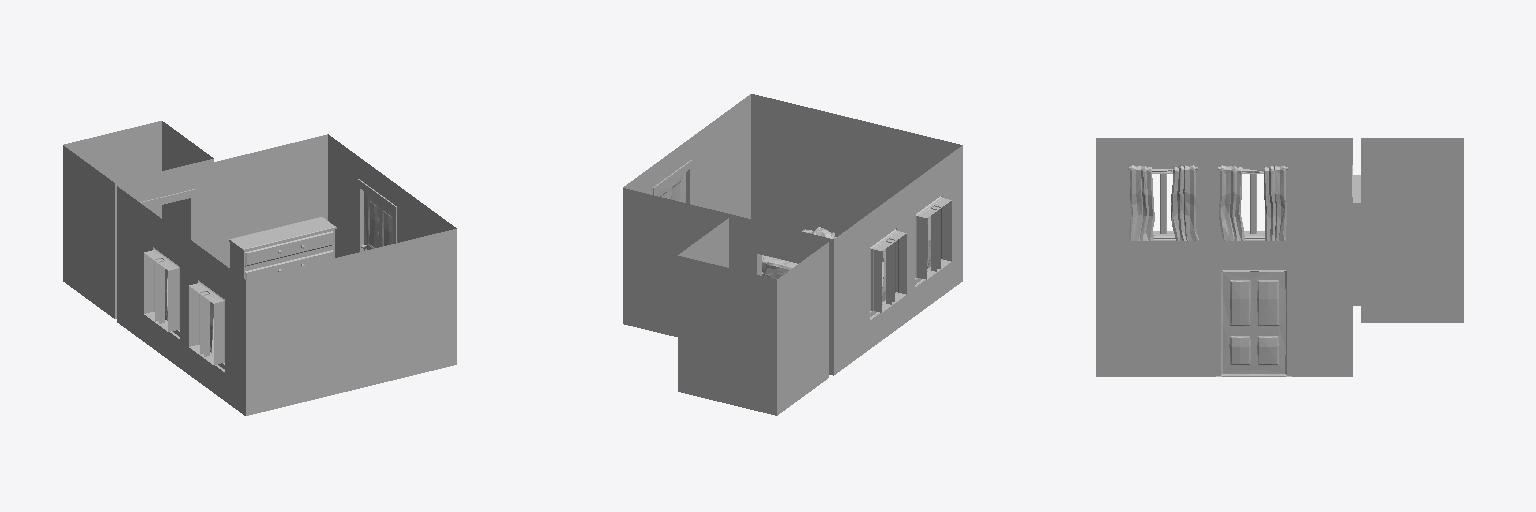
The model's file is door.obj.
3 views of the same model, side by side, from view 1: azimuth 30°, elevation 25°; view 2: azimuth 150°, elevation 25°; view 3: azimuth 270°, elevation 25° (orthographic).
Parts seen in each view (by area): view 1: Plane, Cube_Cube.005, Plane.002; view 2: Plane; view 3: Plane, Plane.002, Cylinder.003_Cylinder.000, Cylinder.004_Cylinder.001.
Part boxes in pixels (bbox=[...]): Plane: bbox=[63, 121, 456, 415]; Cube_Cube.005: bbox=[229, 217, 336, 279]; Plane.002: bbox=[364, 191, 392, 250]; Plane: bbox=[623, 94, 962, 415]; Plane: bbox=[1096, 138, 1463, 376]; Plane.002: bbox=[1221, 271, 1286, 375]; Cylinder.003_Cylinder.000: bbox=[1128, 165, 1198, 240]; Cylinder.004_Cylinder.001: bbox=[1219, 165, 1286, 240].
Bounding box in the file's own units: 4.96 × 2.86 × 6.99.